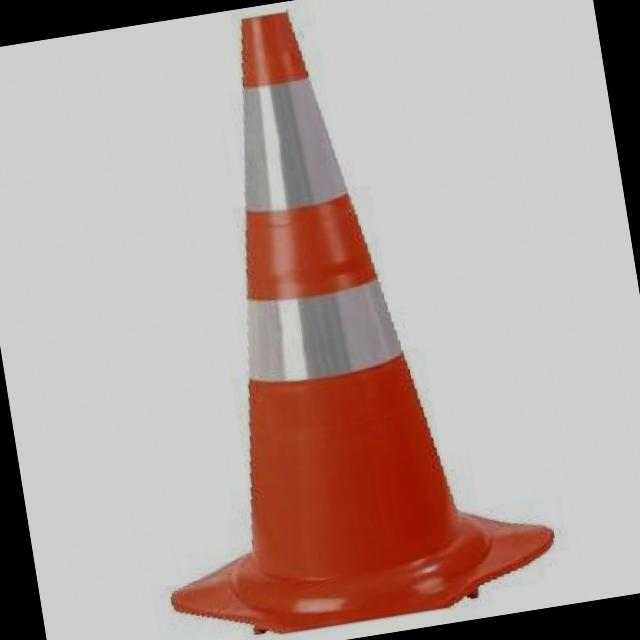cone: (80, 0, 589, 640)
